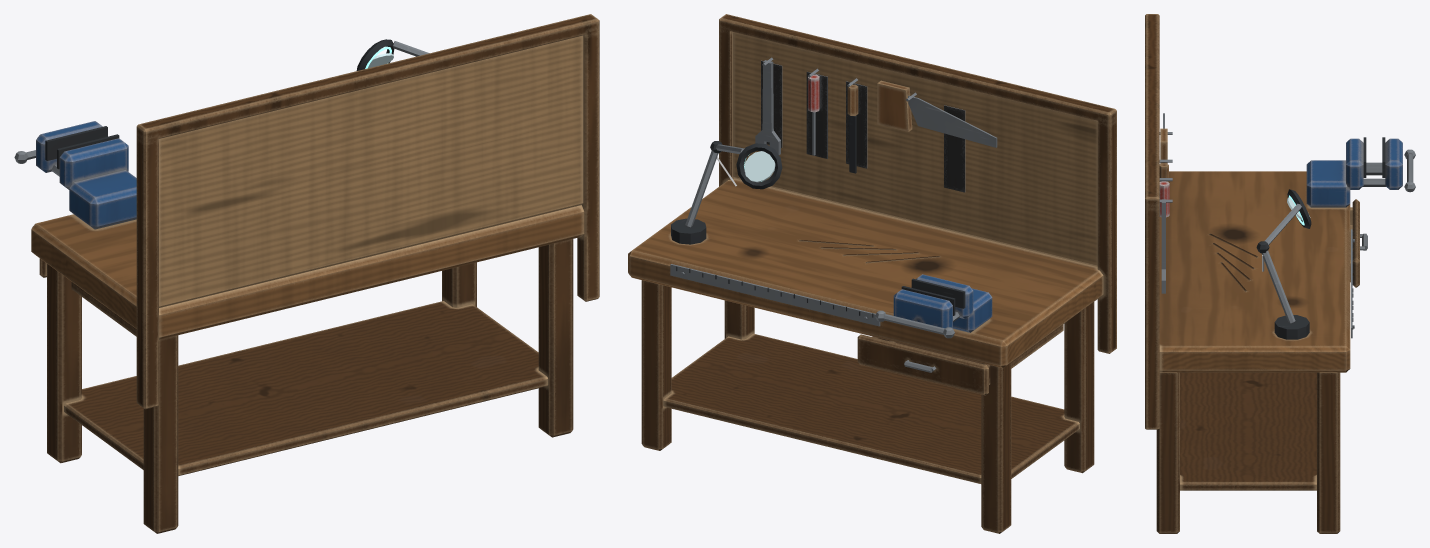
The model's file is mesa_crafting.fbx.
3 renders of one model, left to right at view 1: azimuth 30°, elevation 25°; view 2: azimuth 150°, elevation 25°; view 3: azimuth 270°, elevation 25°, orthographic. The views are drawn at different scales.
Visible parts, largest first — view 1: mesa_crafting, mesa_crafting_cajon; view 2: mesa_crafting, mesa_crafting_cajon, mesa_crafting_lupa_cristal; view 3: mesa_crafting, mesa_crafting_cajon.
Boxes of the visible parts, x1,y1,x2,y2 form: mesa_crafting: (14,14,599,533); mesa_crafting_cajon: (39,258,136,336); mesa_crafting: (628,14,1116,533); mesa_crafting_cajon: (857,324,1063,395); mesa_crafting_lupa_cristal: (744,151,775,182); mesa_crafting: (1145,14,1415,533); mesa_crafting_cajon: (1350,199,1367,287).
Size of the model in its own units: 3 by 2.61 by 1.86.
Materials: 3 (1 with a texture image).
